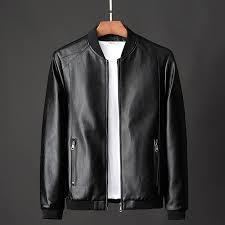jacket: (30, 23, 195, 224)
